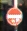No entry: (6, 6, 22, 26)
